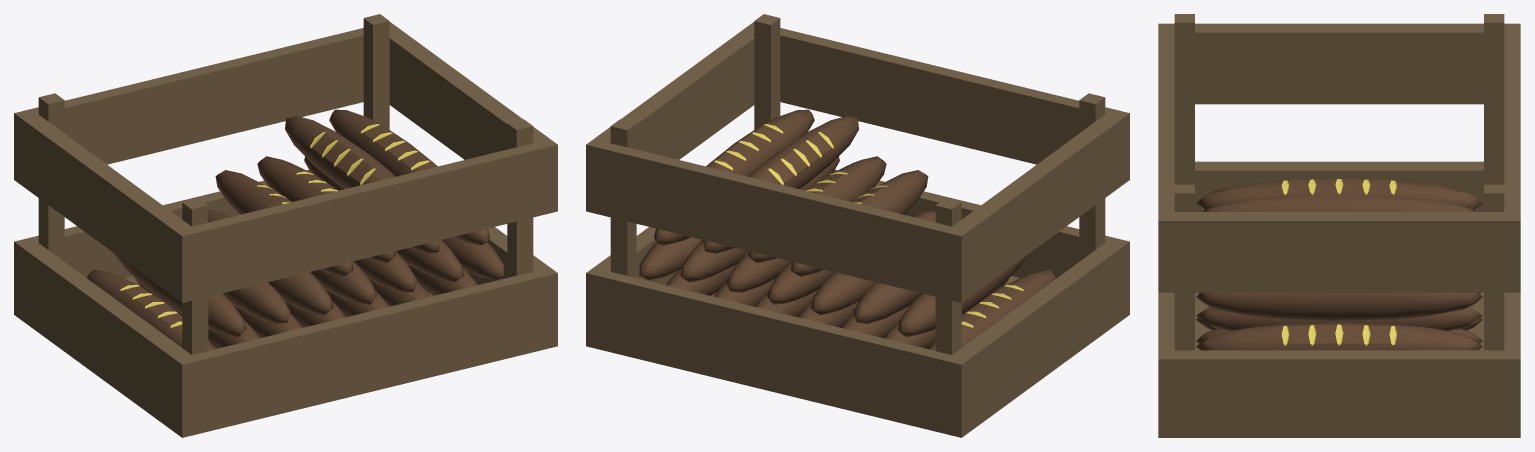
The model's file is BaguetteCrate_RJ_16-11.fbx.
3 renders of one model, left to right at view 1: azimuth 30°, elevation 25°; view 2: azimuth 150°, elevation 25°; view 3: azimuth 270°, elevation 25°, orthographic. The views are drawn at different scales.
Visible parts, largest first — view 1: BaguetteCrate; view 2: BaguetteCrate; view 3: BaguetteCrate.
Part boxes in pixels (x1,y1,x2,y2): BaguetteCrate: (14, 14, 557, 437); BaguetteCrate: (586, 14, 1129, 437); BaguetteCrate: (1158, 14, 1520, 437).
Size of the model in its own units: 407 by 227 by 316.
